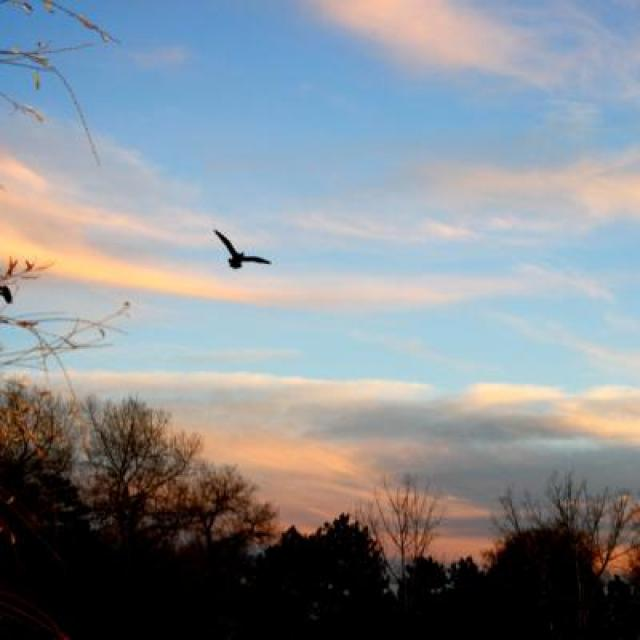birds: (206, 224, 272, 272)
